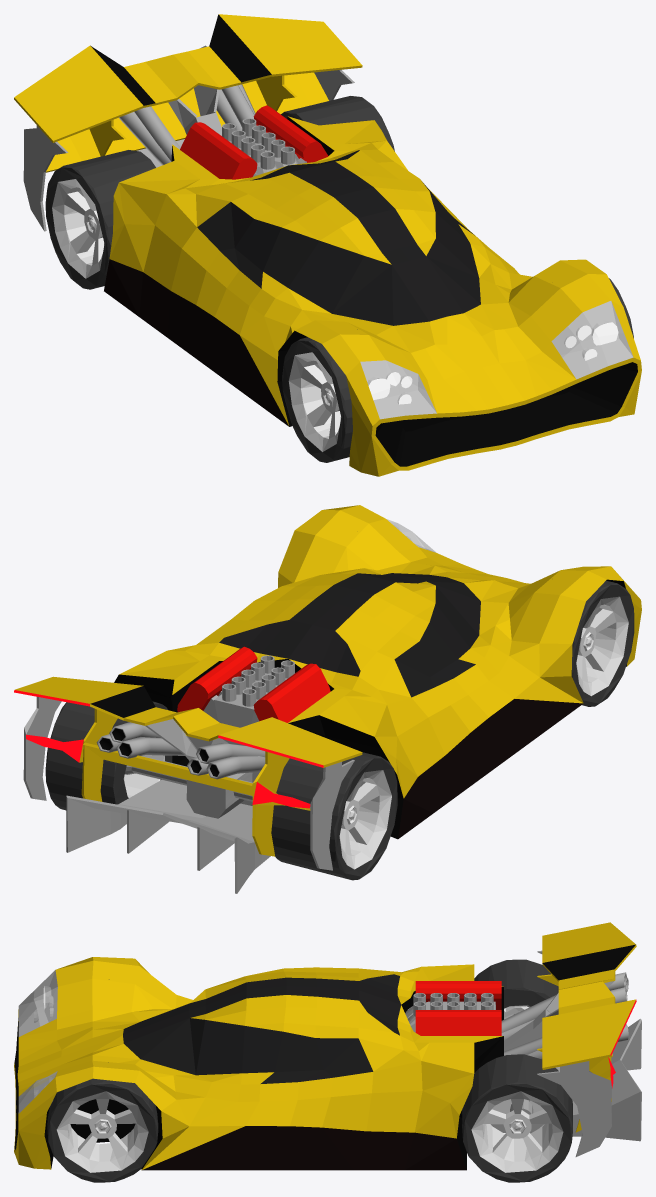
The model's file is Shark.glb.
3 renders of one model, top to bottom at view 1: azimuth 30°, elevation 25°; view 2: azimuth 150°, elevation 25°; view 3: azimuth 270°, elevation 25°, orthographic. The views are drawn at different scales.
Parts seen in each view (by area): view 1: Cube, Circle.004, Circle.003, Circle.002; view 2: Cube, Circle.004, Circle.003, Circle.002; view 3: Cube, Circle.002, Circle.001, Circle.004.
Part boxes in pixels (x1,y1,x2,y2): Cube: (14,14,641,476); Circle.004: (45,150,155,289); Circle.003: (282,329,357,462); Circle.002: (281,96,394,151); Cube: (14,505,641,893); Circle.004: (271,752,397,880); Circle.003: (571,580,634,706); Circle.002: (45,701,172,810); Cube: (14,922,641,1170); Circle.002: (462,1054,572,1182); Circle.001: (47,1062,158,1182); Circle.004: (474,959,558,1019).
Size of the model in its own units: 2.16 by 1.14 by 4.33.
